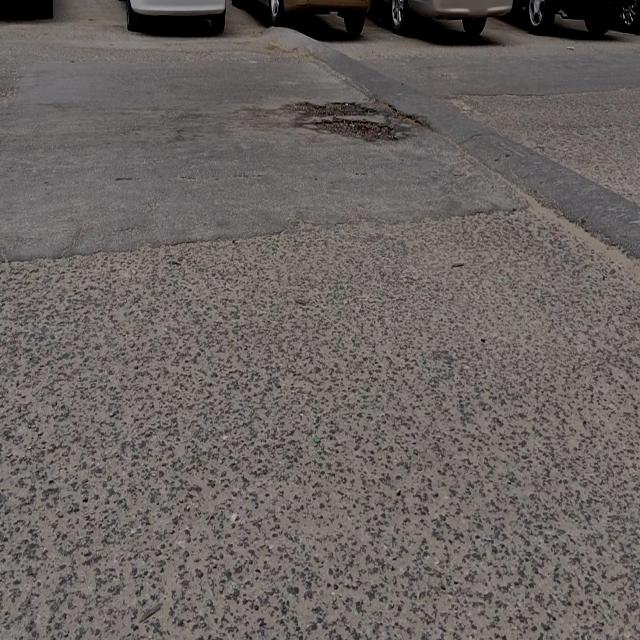Potholes: (289, 102, 402, 147)
